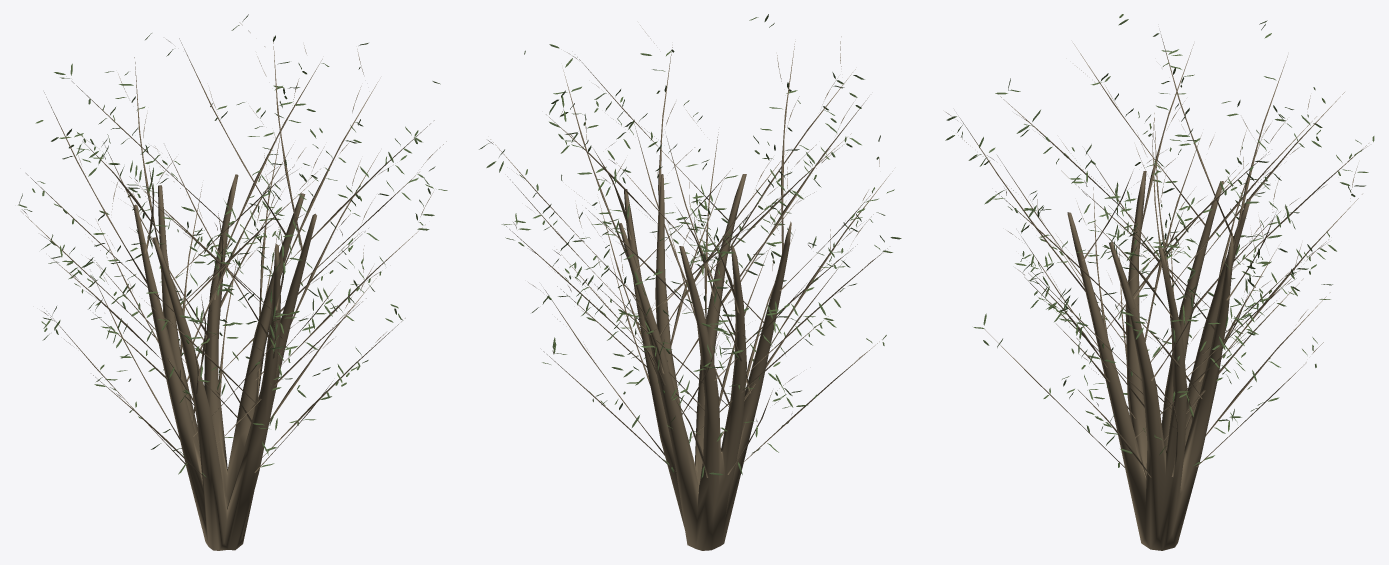
The model's file is Filaire_1_Niveau1.fbx.
3 renders of one model, left to right at view 1: azimuth 30°, elevation 25°; view 2: azimuth 150°, elevation 25°; view 3: azimuth 270°, elevation 25°, orthographic.
Parts seen in each view (by area): view 1: Filaire_1_Niveau1; view 2: Filaire_1_Niveau1; view 3: Filaire_1_Niveau1.
Boxes of the visible parts, x1,y1,x2,y2 form: Filaire_1_Niveau1: (18, 14, 447, 550); Filaire_1_Niveau1: (479, 14, 901, 550); Filaire_1_Niveau1: (945, 14, 1374, 550).
Size of the model in its own units: 171 by 198 by 169.
